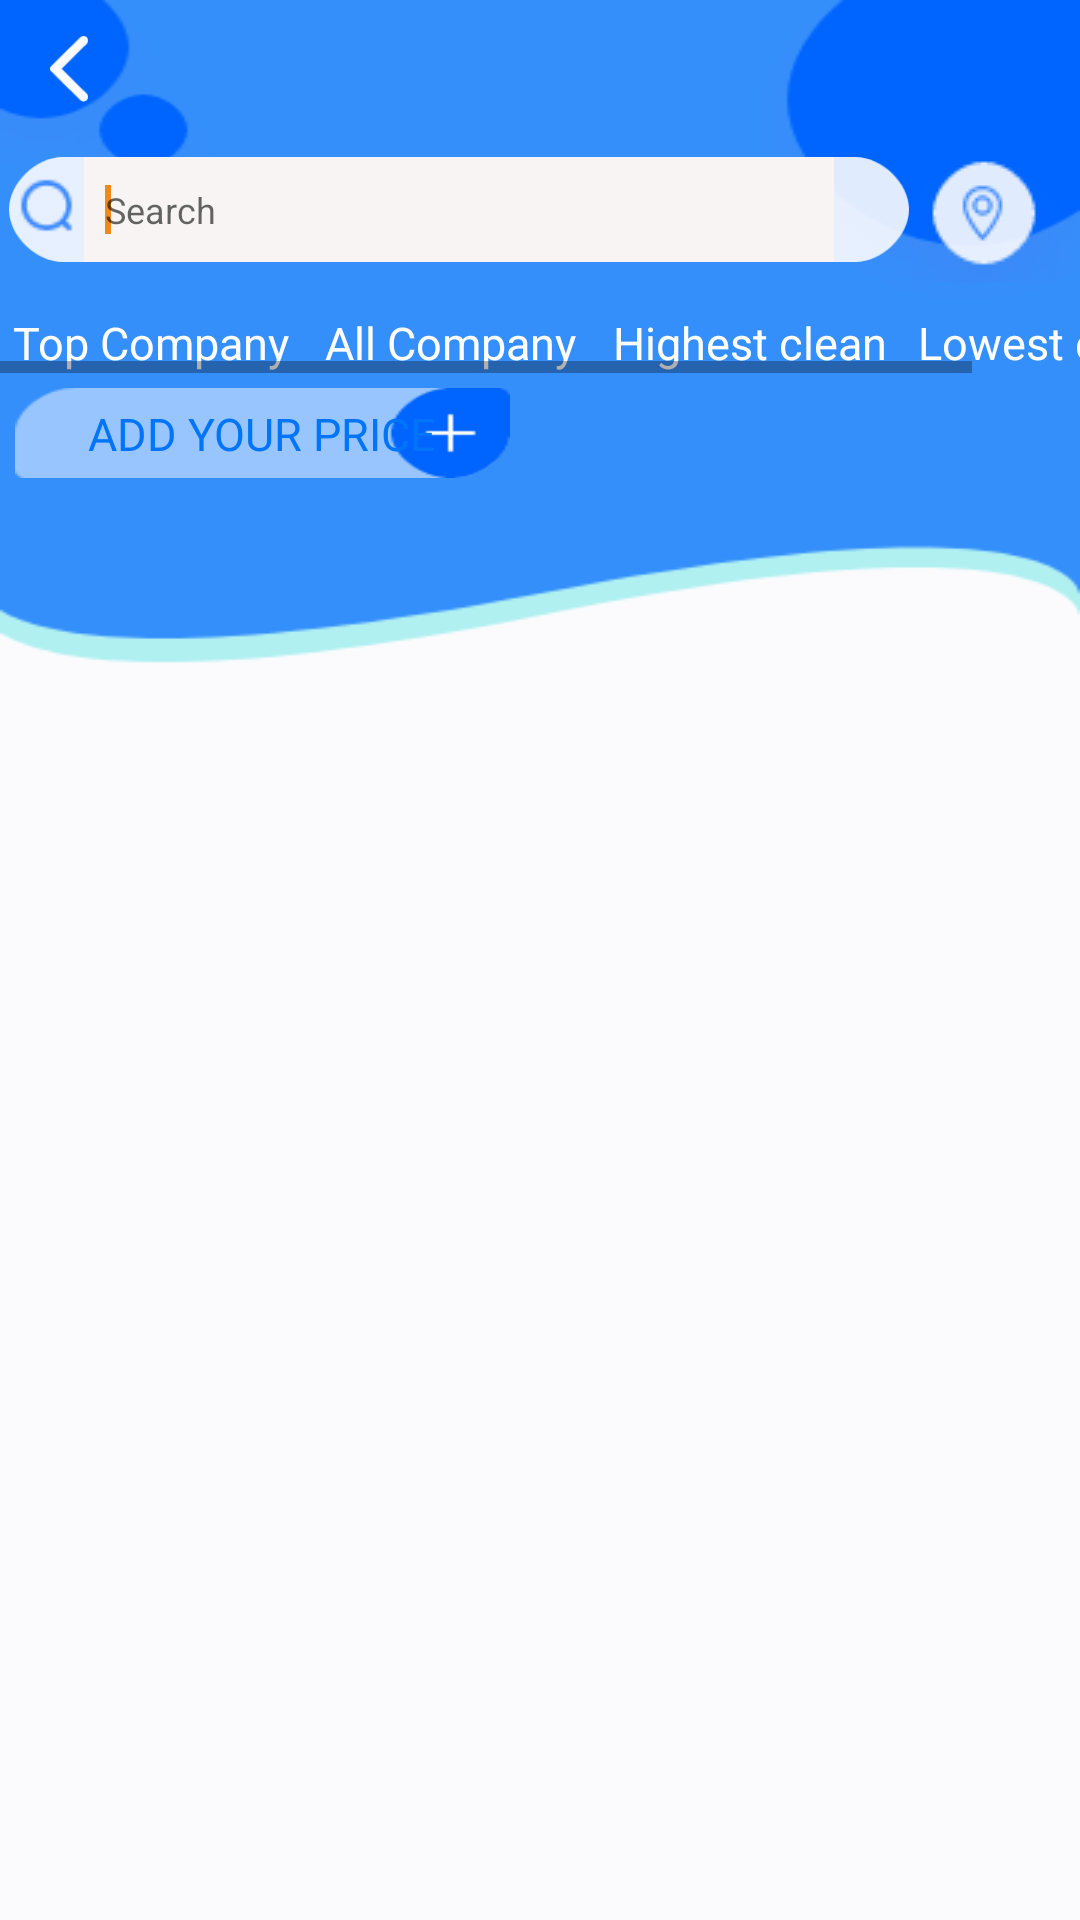

Screen size 1080*1920. Icon name, then its center in pixels as (x,y):
add location: (990,210)
sham left: (69,69)
